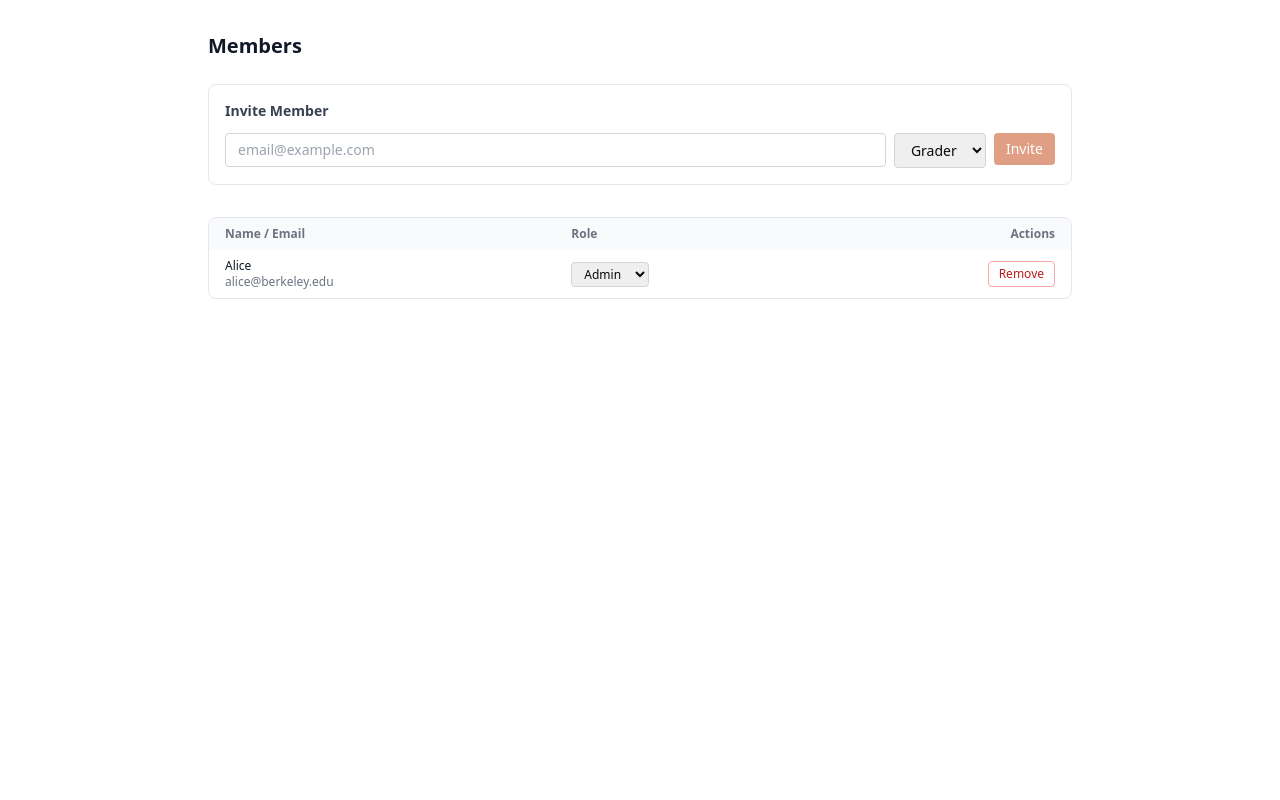
Test case: MembersView › shows toast with LAST_ADMIN_REQUIRED error when remove fails
Expected: the table with test id "members-table" is shown, [209,218,1071,298]
// Click remove → confirm
Click the button "Remove" at (1021, 274), box [988,261,1055,287]
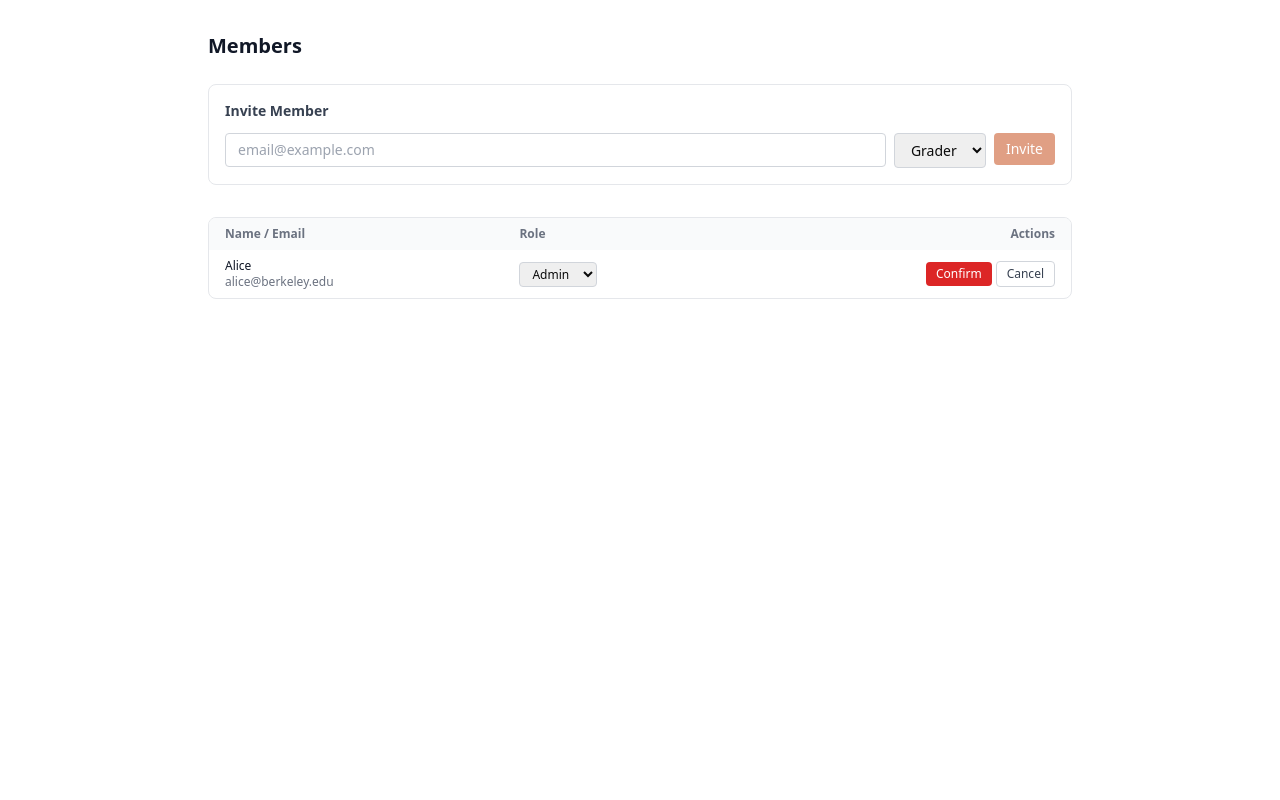
Click the button "Confirm" at (959, 274), box [926,262,992,286]
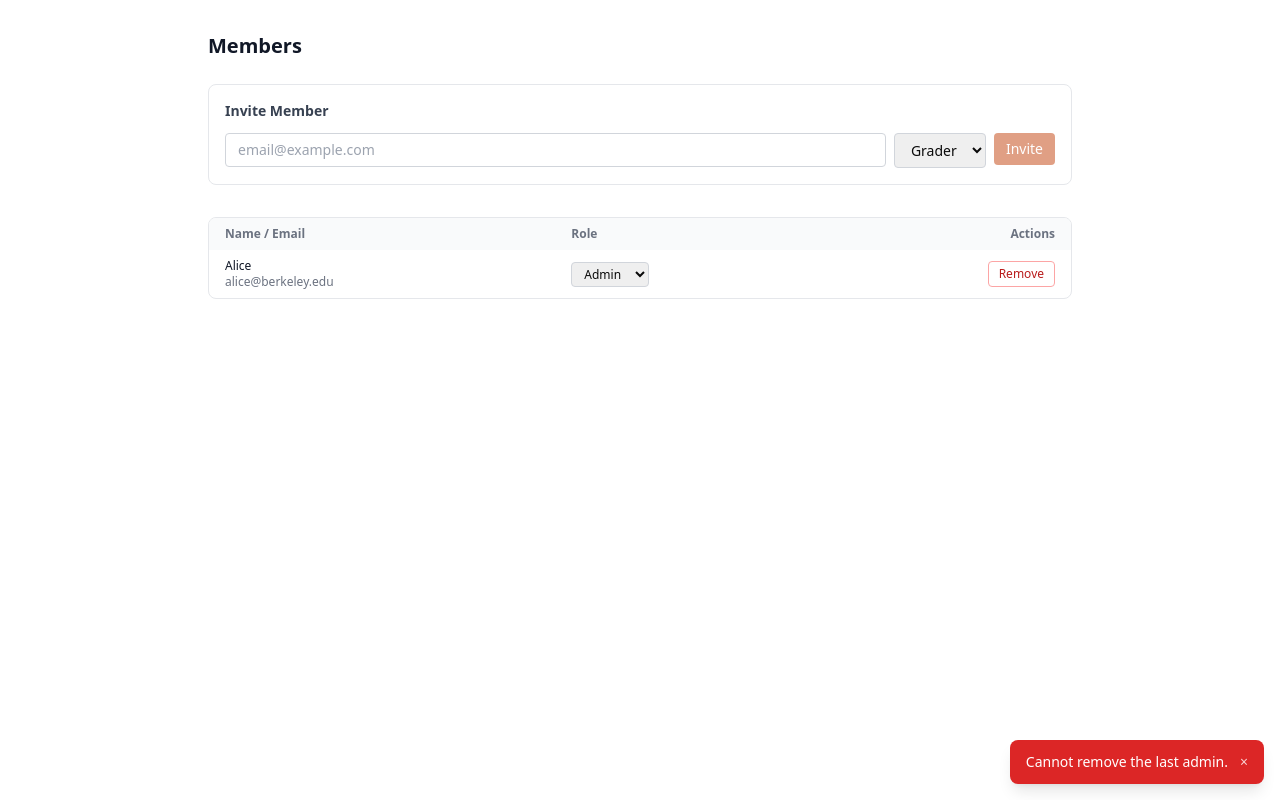
Expected: the message "Cannot remove the last admin. ×" is shown, [1010,740,1264,784]
Expected: the message with test id "toast" shows "Cannot remove the last admin.", [1026,752,1228,771]
